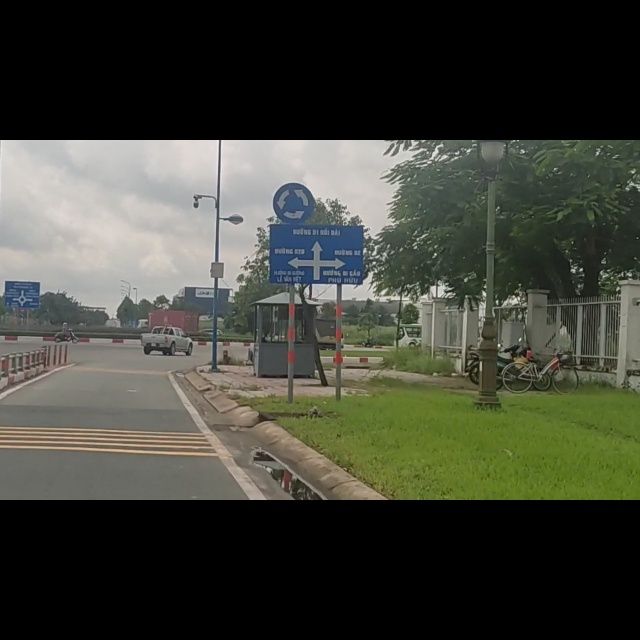bien_hieu_lenh: (271, 73, 315, 152)
